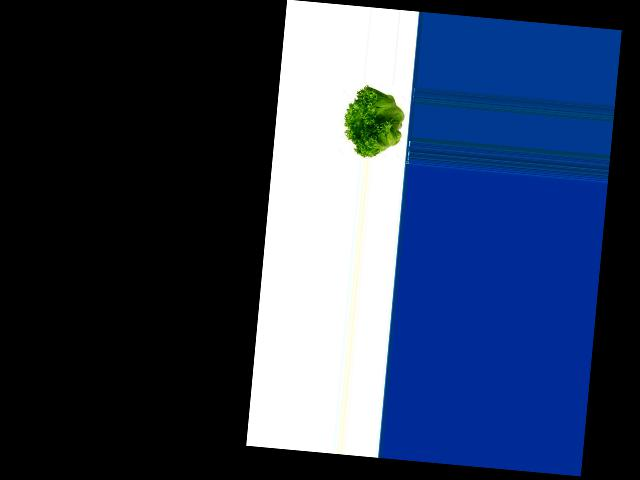lettuce: (339, 86, 410, 160)
